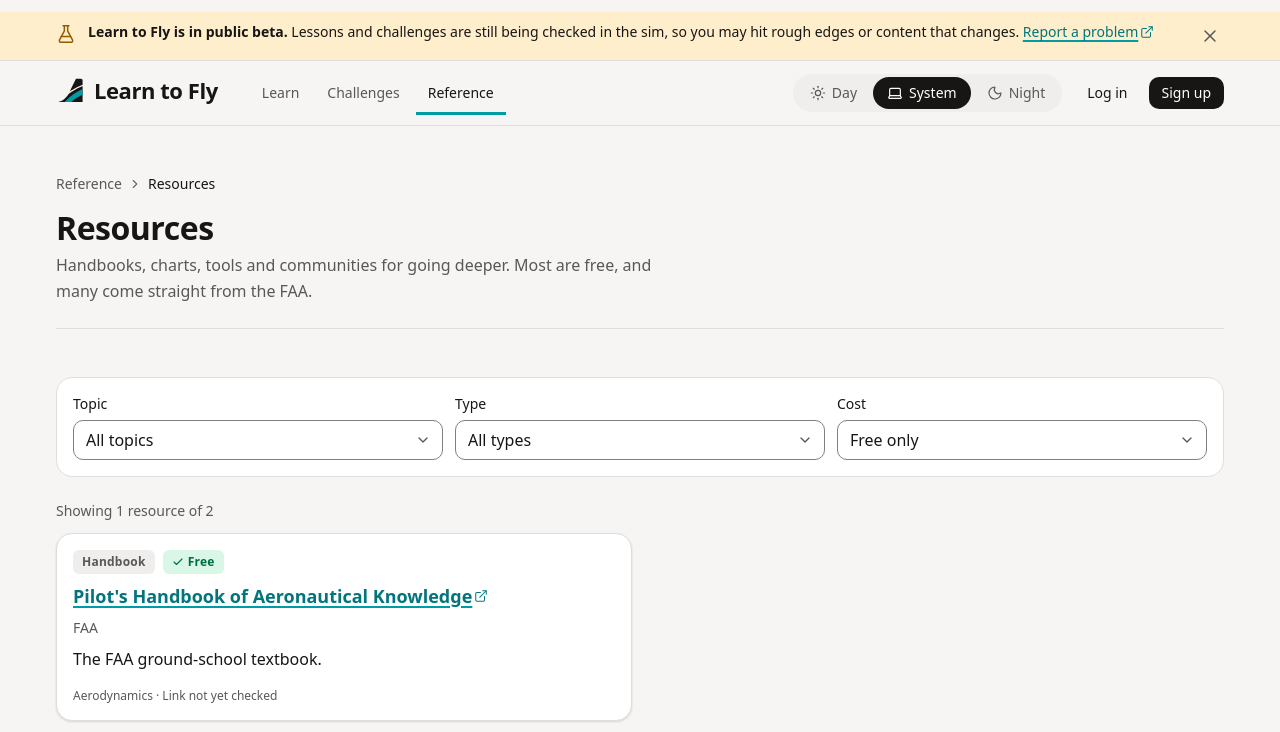
Test: reference pages (step 10.9) › filters resources from the URL
expect the text "Showing 1 resource of 2" is shown: met, box x1=56 y1=501 x2=214 y2=520
expect the link named "Pilot's Handbook of Aeronautical Knowledge (opens in a new tab)" is shown: met, box x1=73 y1=582 x2=488 y2=610
Select "Free and paid" in the dropdown labelled "Cost" at (1022, 440), box x1=837 y1=420 x2=1207 y2=460
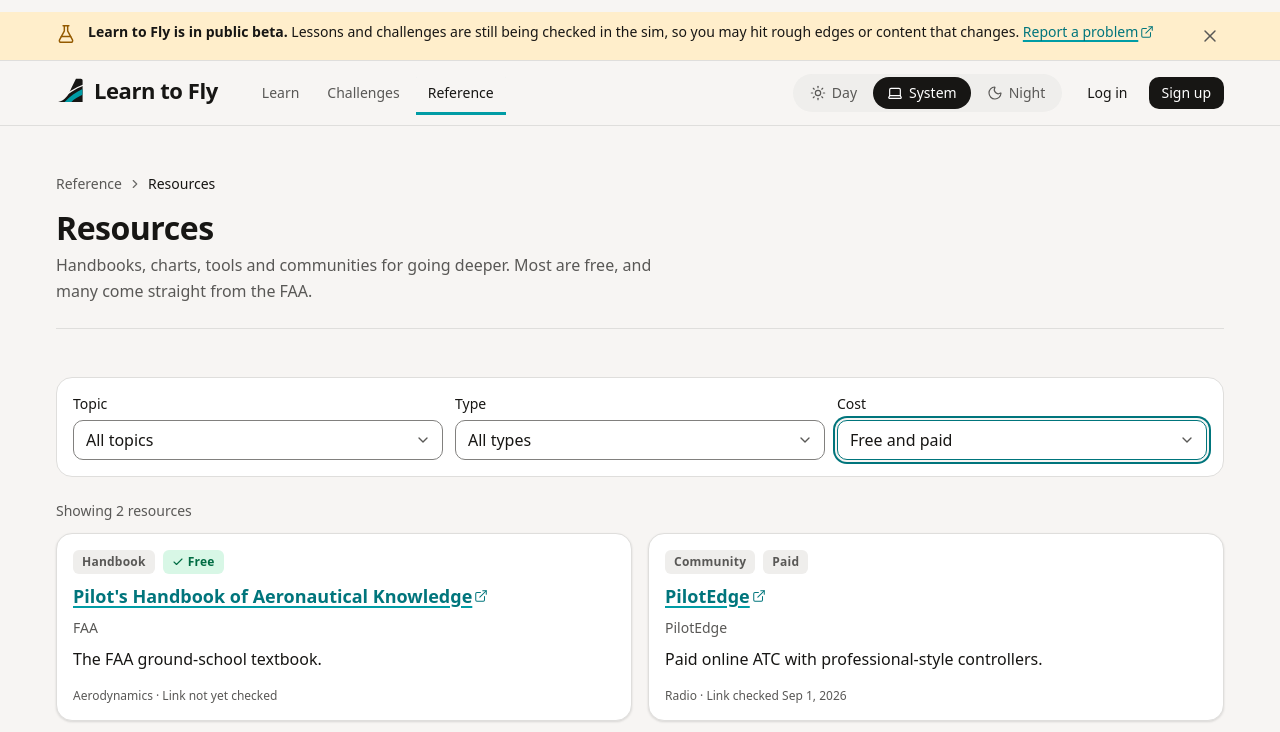
expect the text "Showing 2 resources" is shown: met, box x1=56 y1=501 x2=192 y2=520
expect the text "Radio · Link checked Sep 1, 2026" is shown: met, box x1=665 y1=687 x2=847 y2=704
